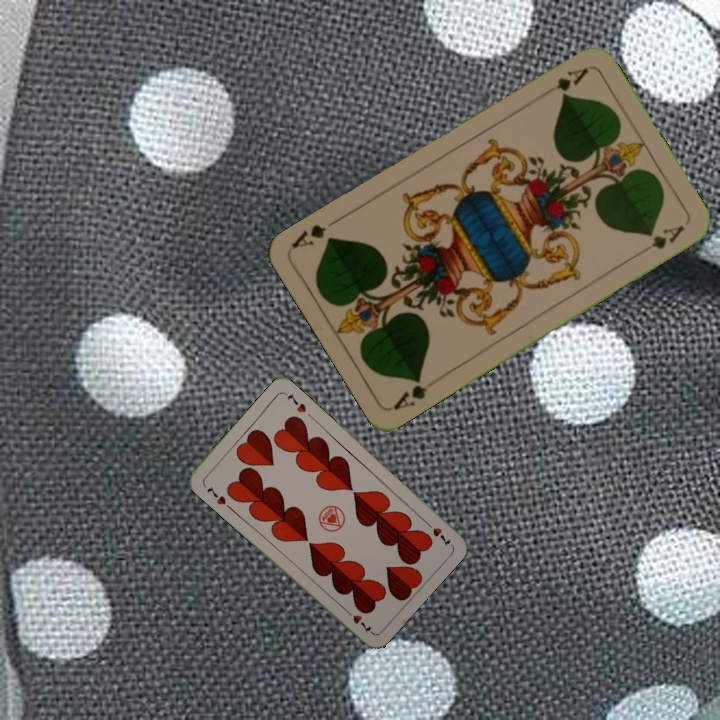GA: (537, 63, 591, 98), (389, 372, 430, 413)
H7: (421, 517, 454, 548), (203, 482, 228, 507)
